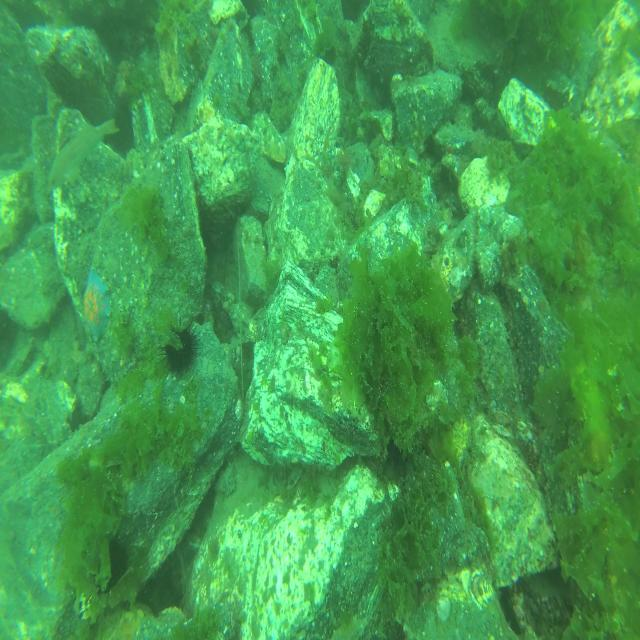echinus: (158, 315, 203, 378)
starfish: (82, 263, 114, 347)
